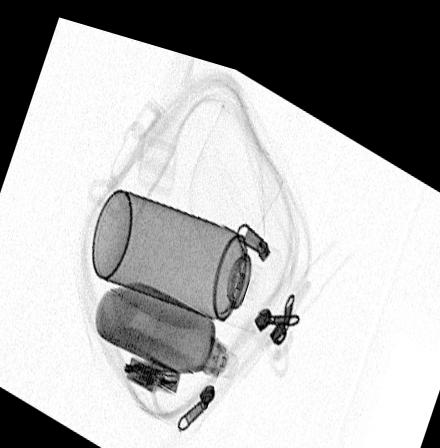Sprayer: (90, 179, 285, 321)
